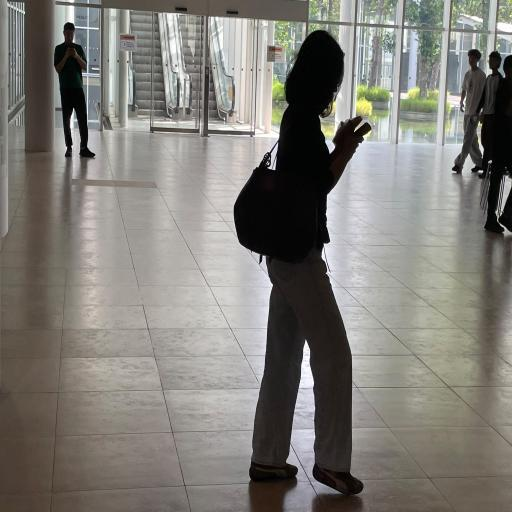person_left: (455, 48, 484, 180)
person_right: (242, 30, 366, 512)
